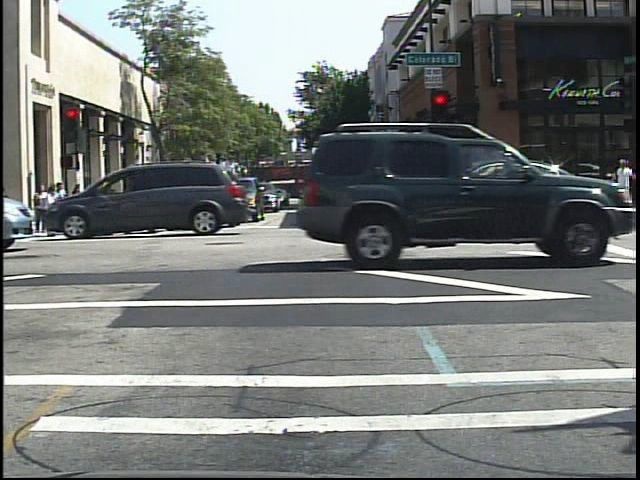person: (613, 153, 637, 207), (165, 181, 183, 221)
